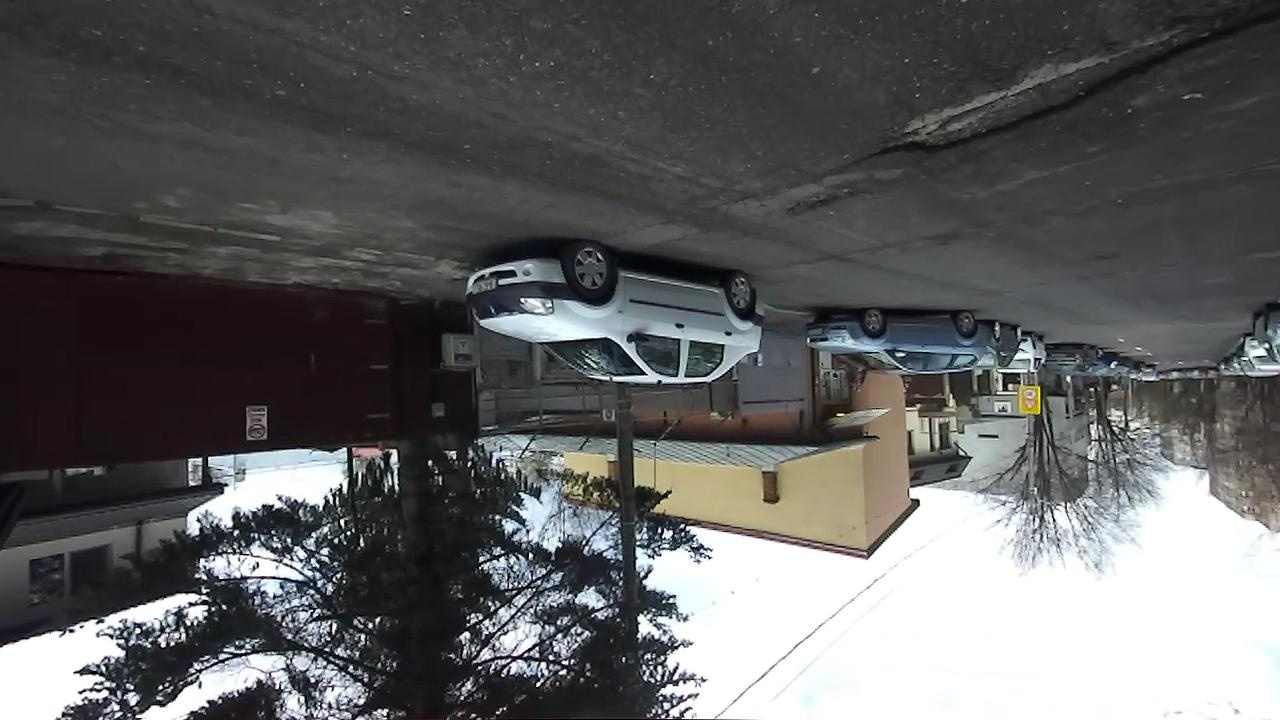pothole: (845, 1, 1278, 168), (777, 183, 877, 220)
